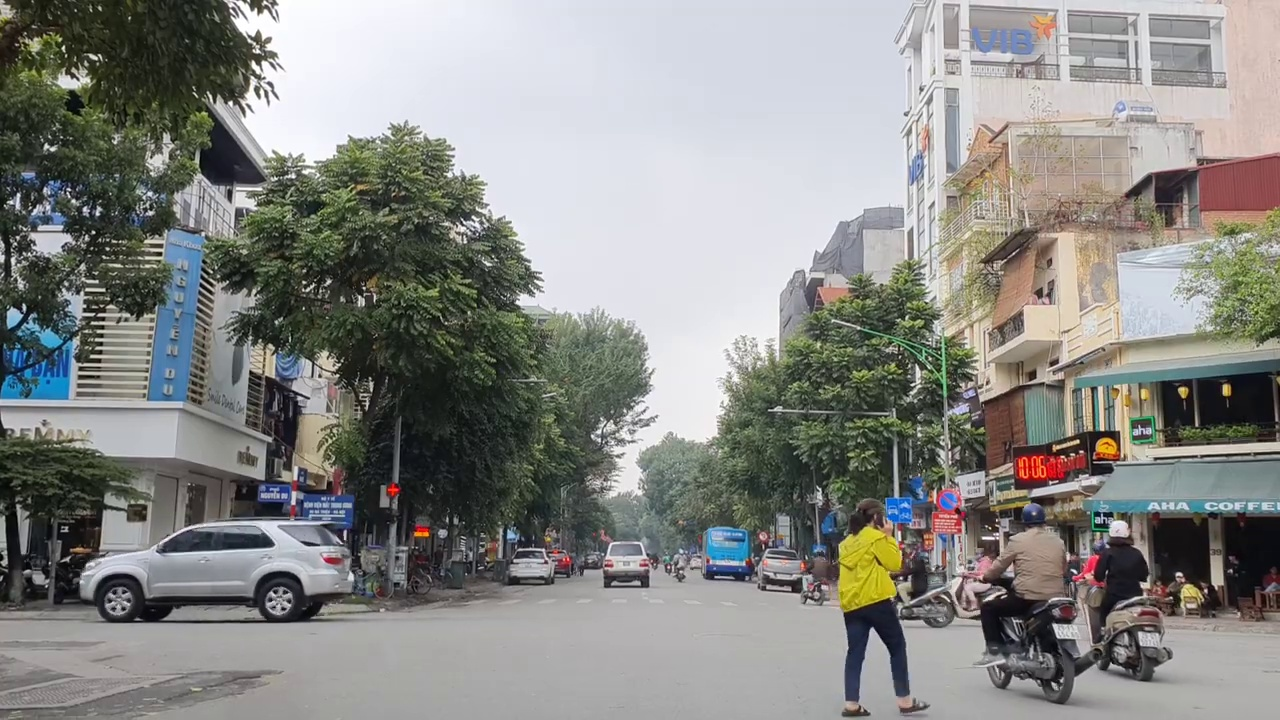person: (1052, 622, 1081, 642), (1137, 628, 1162, 646)
